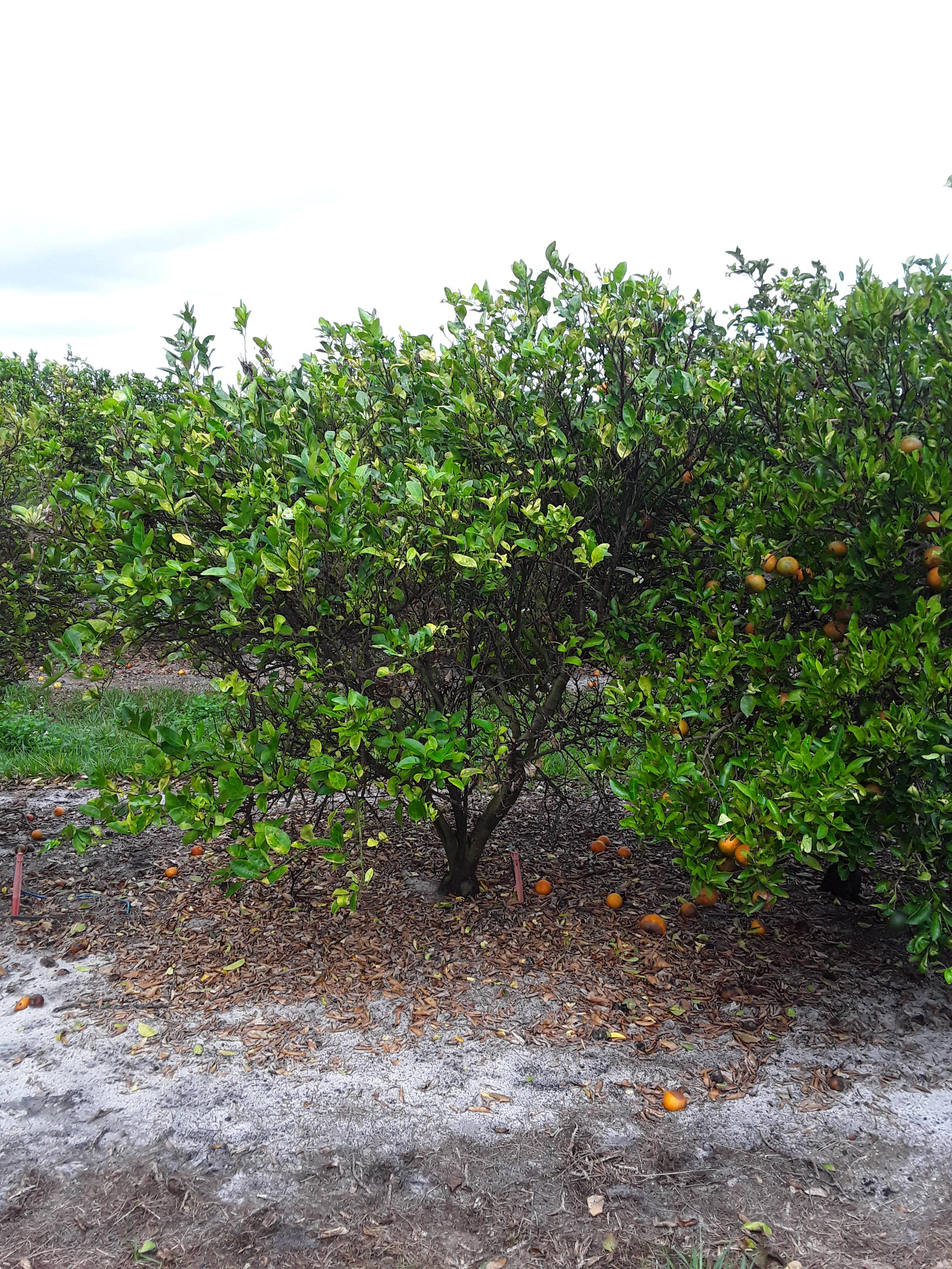fruit_on_ground: (914, 507, 945, 534), (884, 906, 912, 933), (924, 563, 950, 591), (716, 830, 745, 855), (897, 433, 926, 458), (734, 841, 761, 867), (821, 617, 849, 642), (665, 716, 691, 740), (922, 544, 948, 568), (750, 886, 777, 909), (694, 883, 719, 906), (743, 572, 768, 595), (825, 537, 850, 560), (770, 686, 792, 711), (776, 554, 799, 577), (636, 512, 658, 536), (673, 467, 697, 489), (870, 707, 895, 728), (832, 600, 857, 621), (793, 563, 816, 585), (757, 550, 779, 573), (679, 524, 701, 545), (702, 577, 725, 597), (660, 787, 681, 808), (679, 672, 700, 692), (716, 855, 737, 874), (701, 621, 720, 639), (595, 378, 614, 396), (743, 619, 760, 636)
fruit_on_tree: (638, 911, 668, 936), (662, 1086, 688, 1113), (678, 898, 699, 918), (747, 918, 768, 937), (533, 877, 553, 896), (12, 994, 32, 1012), (604, 891, 624, 909), (28, 991, 46, 1009), (589, 838, 607, 854), (595, 834, 611, 848), (616, 844, 632, 858), (164, 865, 179, 878), (189, 844, 204, 856), (52, 805, 65, 818), (586, 678, 599, 690), (31, 828, 44, 839), (25, 812, 36, 823), (53, 681, 62, 689), (177, 669, 186, 676), (124, 662, 133, 669), (37, 676, 44, 681)
